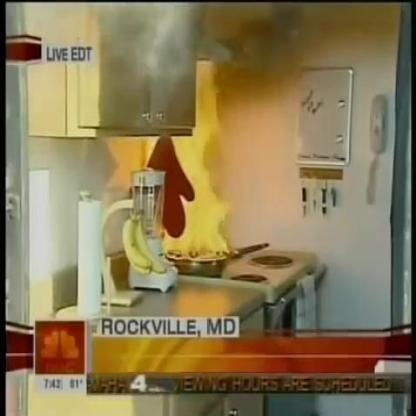fire: (165, 114, 234, 264)
